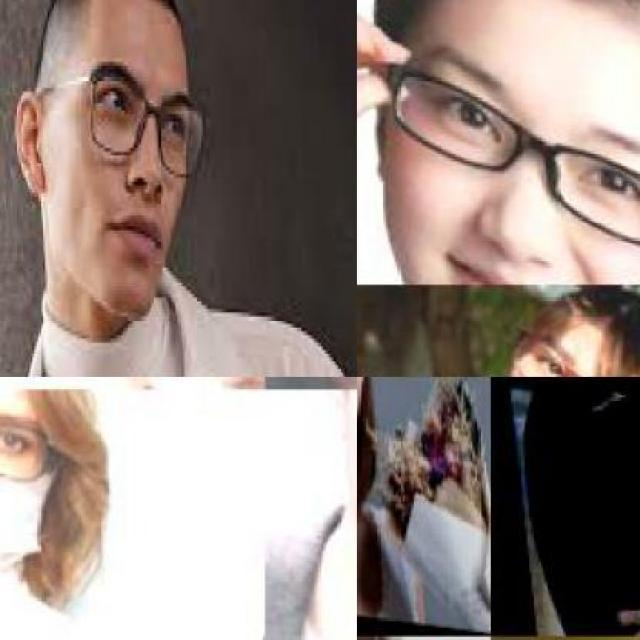mask: (357, 59, 640, 238), (90, 80, 208, 178), (484, 318, 638, 376), (0, 418, 60, 482)
